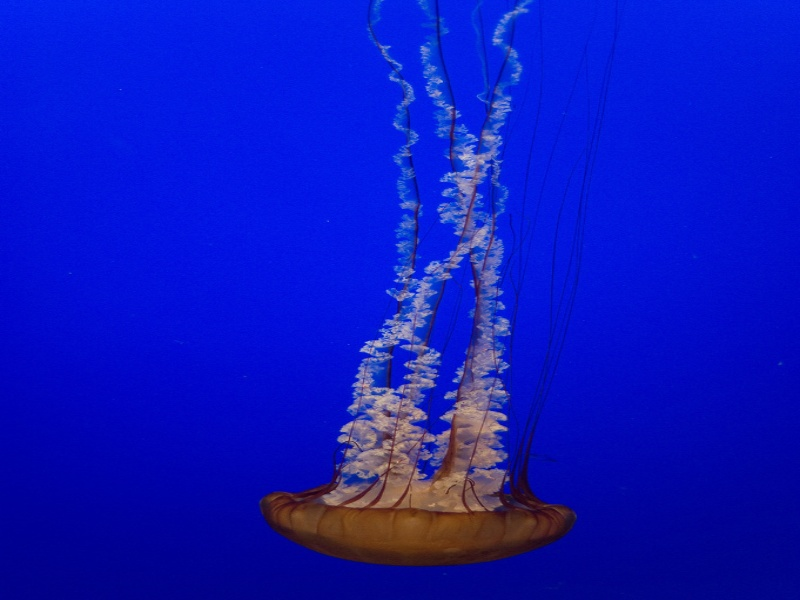Jellyfish: (261, 0, 648, 575)
